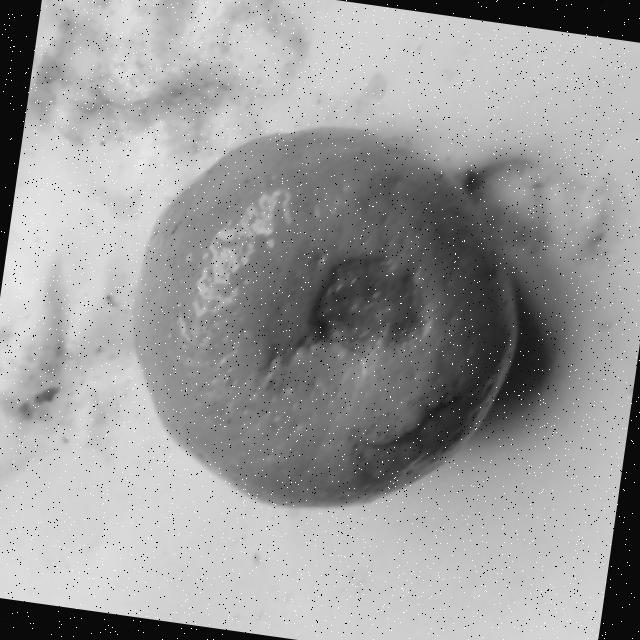overripe: (91, 88, 554, 548)
